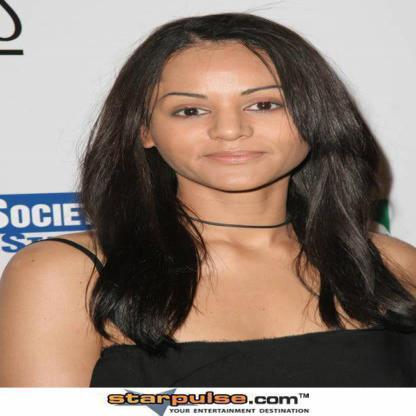long-hair: (61, 196, 396, 261)
